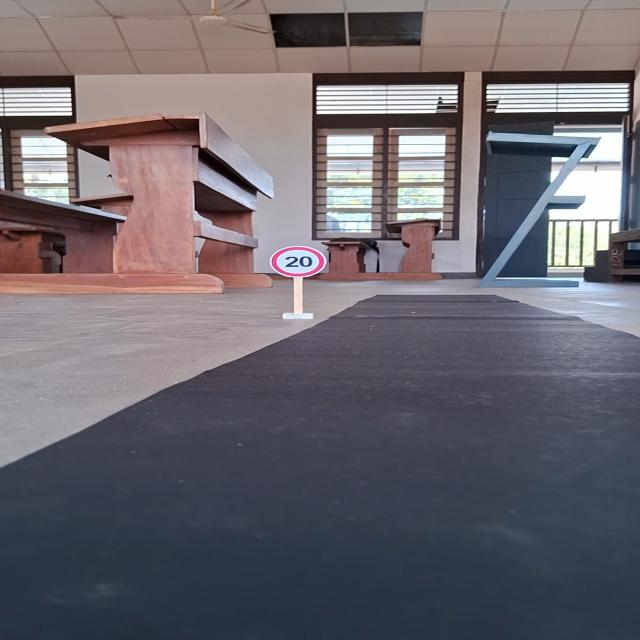Speed20: (267, 245, 336, 280)
